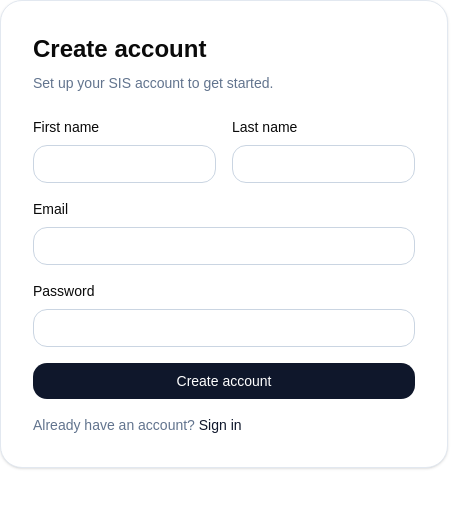
Test: RegisterPage — validation › shows password length error when password is too short
Type "Bob" into the field labelled "First name". click: (124, 164)
box: [33,145,216,183]
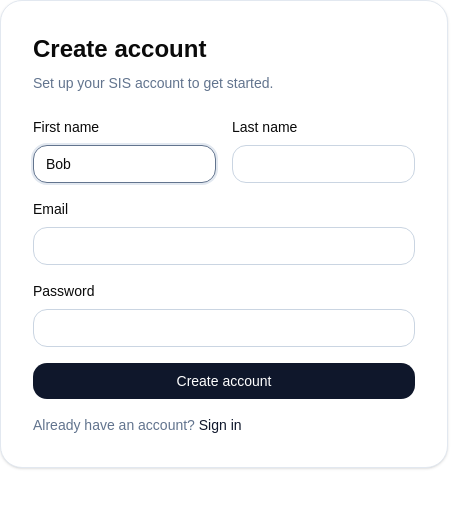
Type "Jones" into the field labelled "Last name". click: (324, 164)
box: [232,145,415,183]
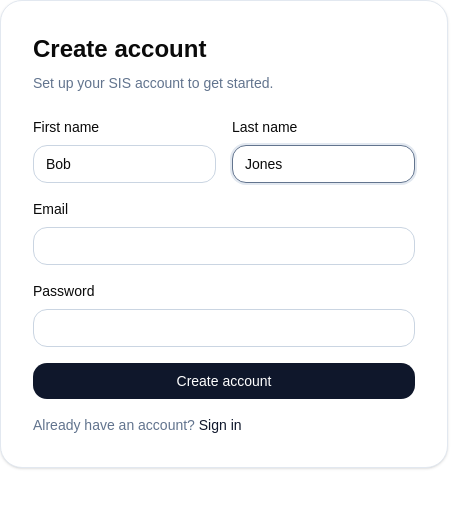
Type "bob@uni.edu" into the field labelled "Email". click: (224, 246)
box: [33,227,415,265]
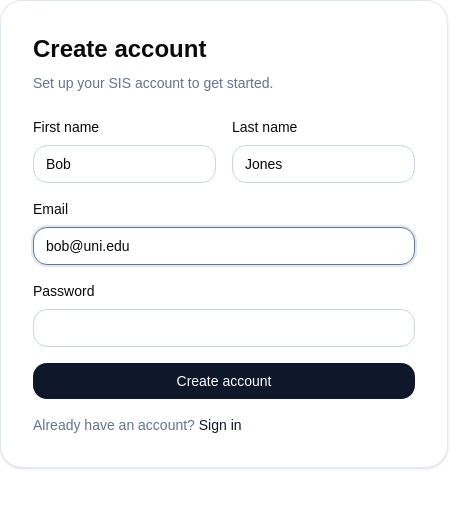
Type "abc" into the password field labelled "Password". click: (224, 328)
box: [33,309,415,347]
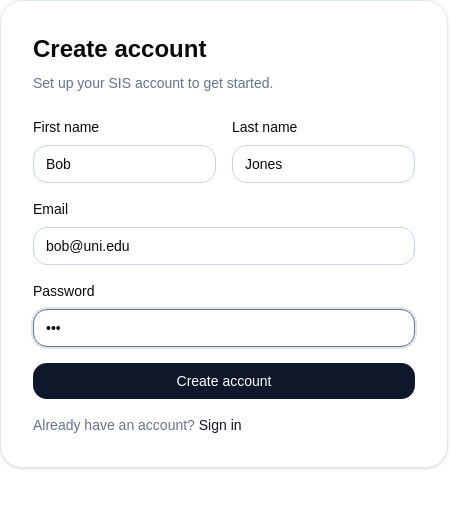
Click the button "Create account". click: (224, 381)
box: [33,363,415,399]
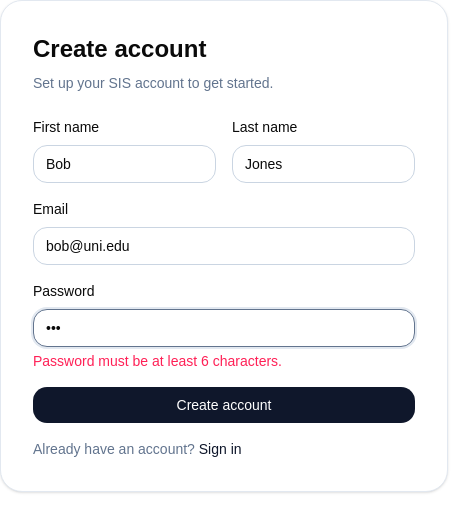
Expected: the text "Password must be at least 6 characters." is shown, [33,353,282,369]
